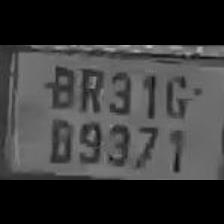1: (160, 119, 188, 173), (136, 67, 160, 119)
3: (104, 64, 134, 114), (103, 118, 131, 166)
7: (130, 121, 160, 169)
9: (76, 116, 102, 164)
B: (44, 61, 74, 109)
D: (45, 114, 73, 162)
G: (159, 65, 189, 117)
R: (75, 62, 105, 114)
